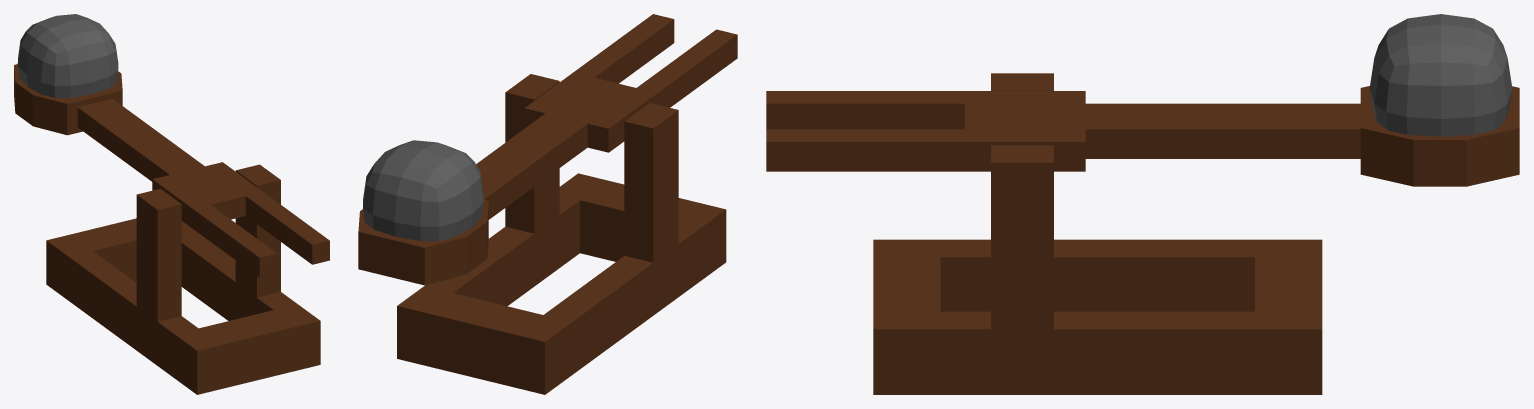
The model's file is catapult.glb.
3 renders of one model, left to right at view 1: azimuth 30°, elevation 25°; view 2: azimuth 150°, elevation 25°; view 3: azimuth 270°, elevation 25°, orthographic. The views are drawn at different scales.
Visible parts, largest first — view 1: Catapult0, Catapult1, Rock; view 2: Catapult0, Catapult1, Rock; view 3: Catapult0, Catapult1, Rock.
Boxes of the visible parts, x1,y1,x2,y2 form: Catapult0: (46, 164, 320, 394); Catapult1: (14, 64, 329, 277); Rock: (17, 14, 118, 98); Catapult0: (397, 74, 726, 394); Catapult1: (358, 14, 737, 285); Rock: (363, 140, 483, 241); Catapult0: (873, 73, 1322, 394); Catapult1: (766, 86, 1519, 186); Rock: (1369, 14, 1512, 136).
Size of the model in its own units: 1.75 by 2.98 by 6.24.
